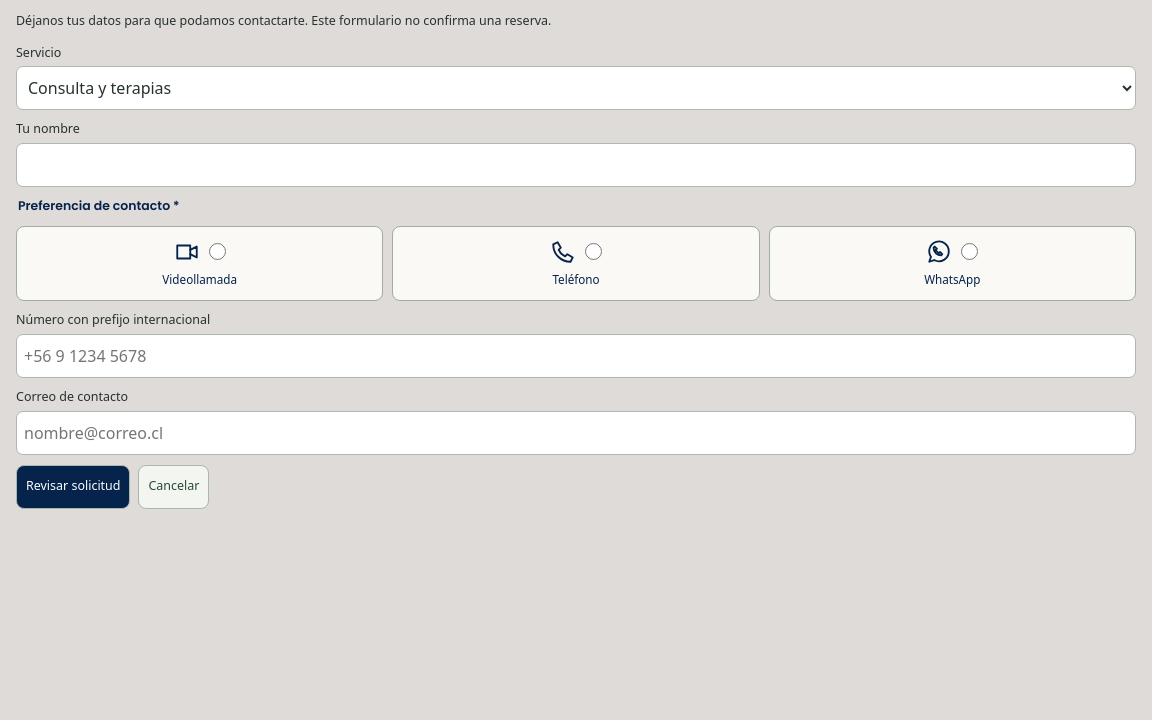
Test: ChatContactForm › blocks the review without an email when choosing Teléfono
The width and height of the screenshot is (1152, 720).
In the field labelled "Tu nombre": (576, 165) [16,143,1136,187], type "Ana"
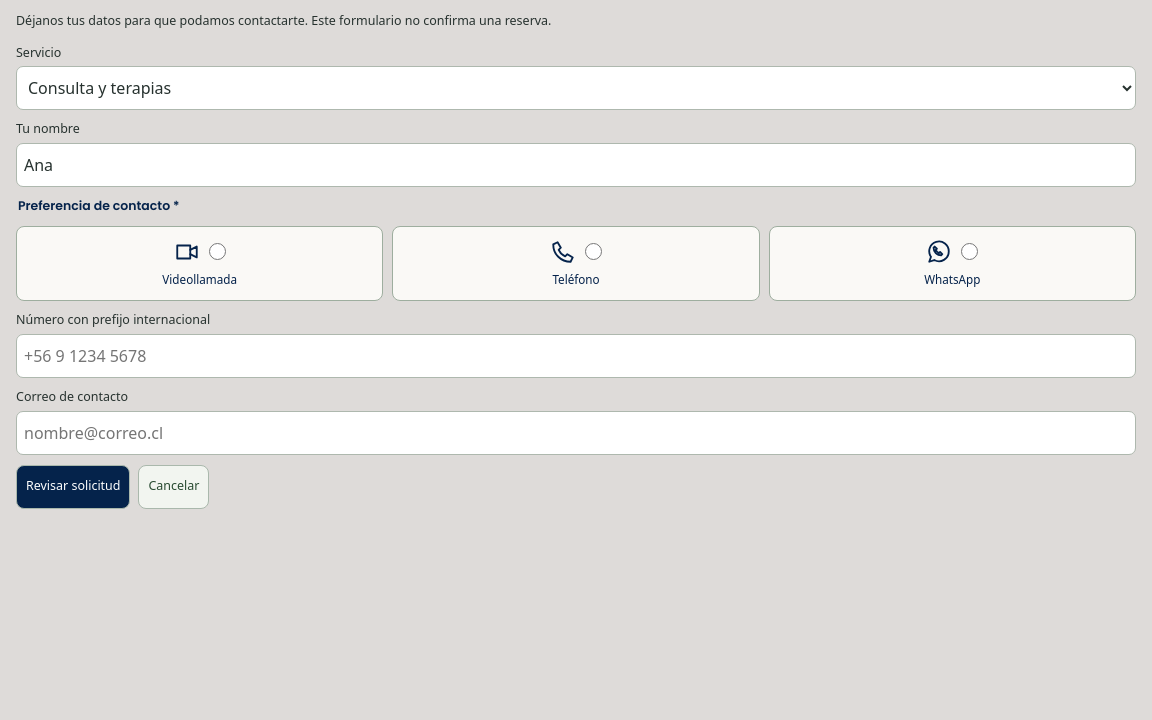
In the field labelled "Número con prefijo internacional": (576, 356) [16,334,1136,378], type "+56912345678"
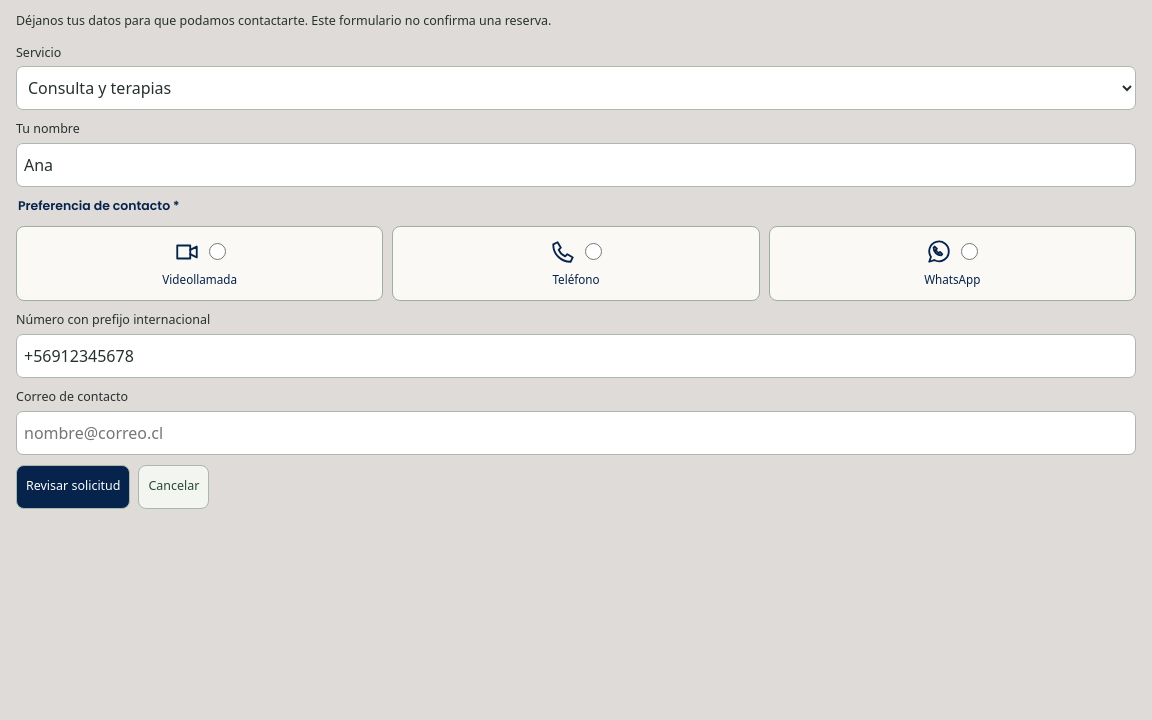
Click the radio button labelled "Teléfono": (594, 252) [585,243,602,260]
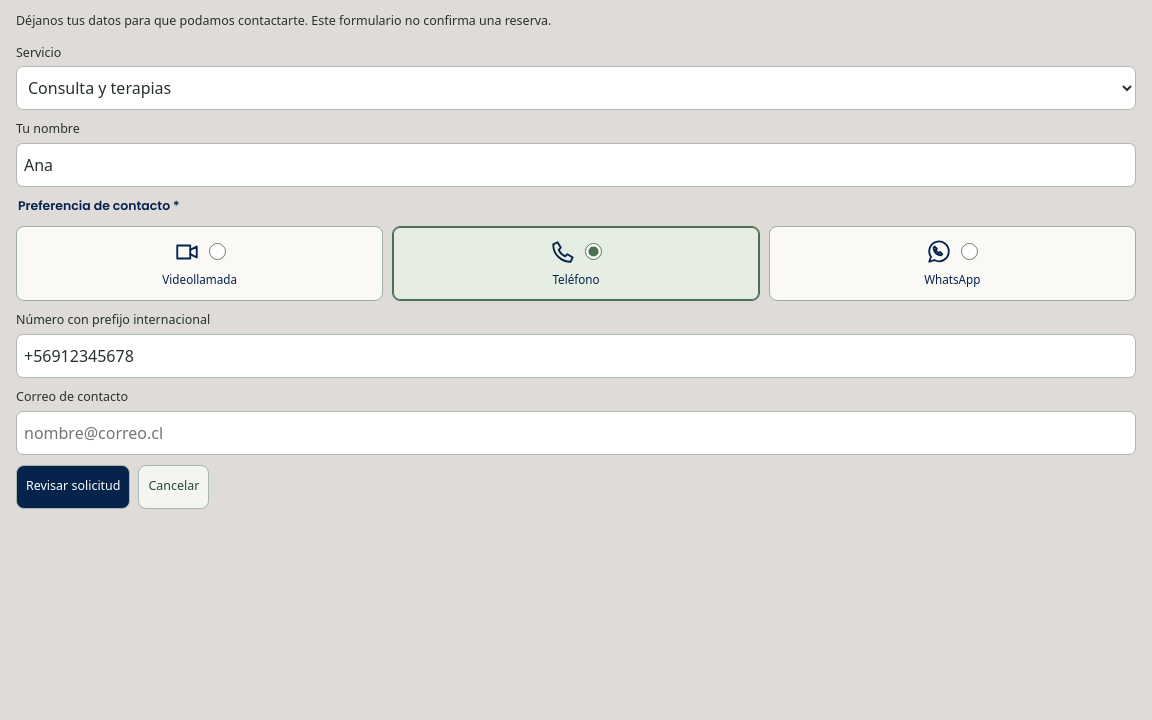
Click the button "Revisar solicitud": (73, 487) [16,465,130,509]
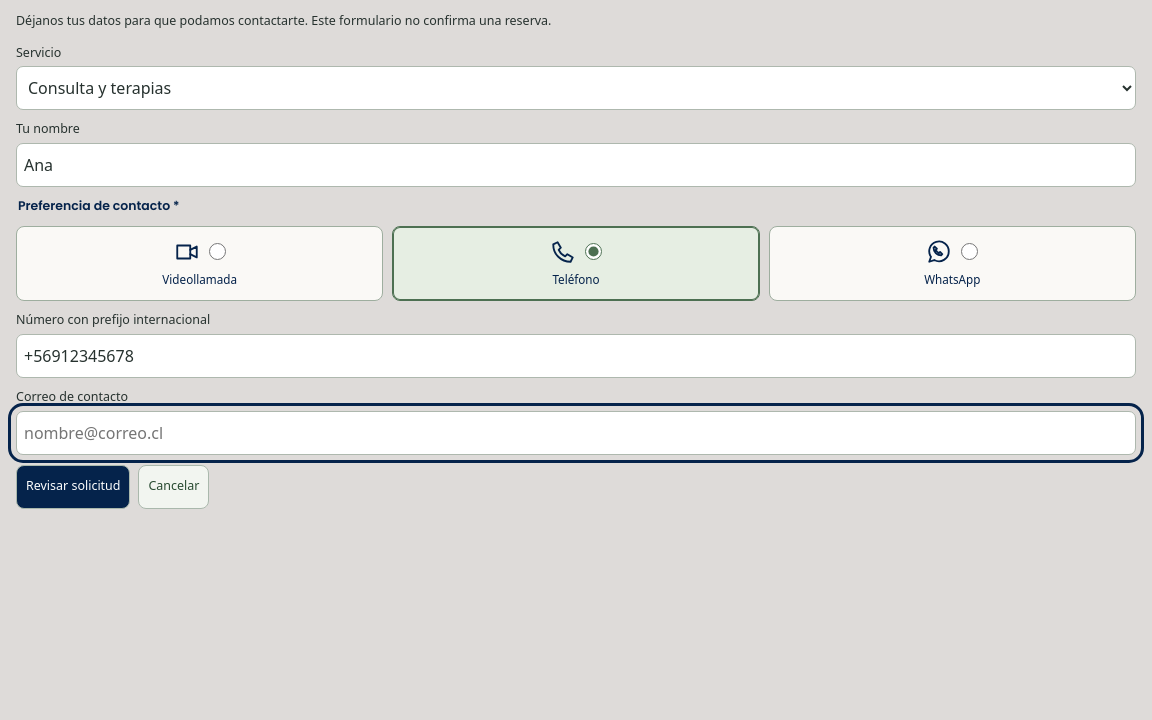
Expected: the text "revisa tu solicitud" is not shown
In the field labelled "Correo de contacto": (576, 433) [16,411,1136,455], type "ana@example.invalid"
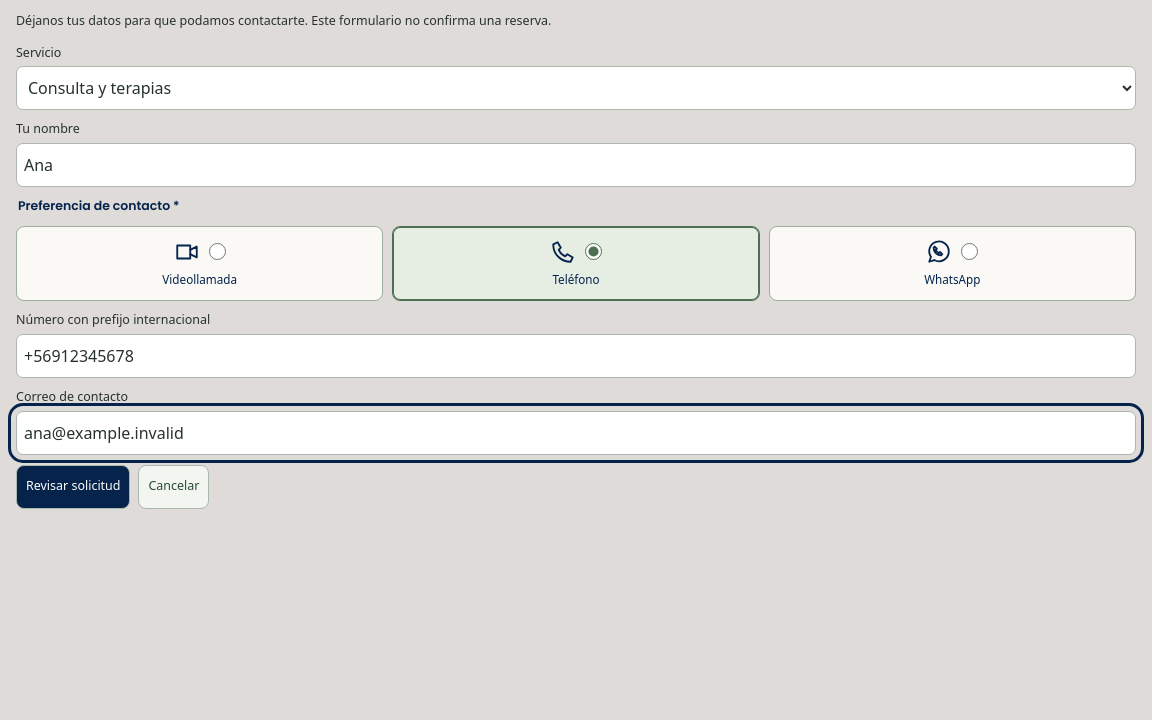
Click the button "Revisar solicitud": (73, 487) [16,465,130,509]
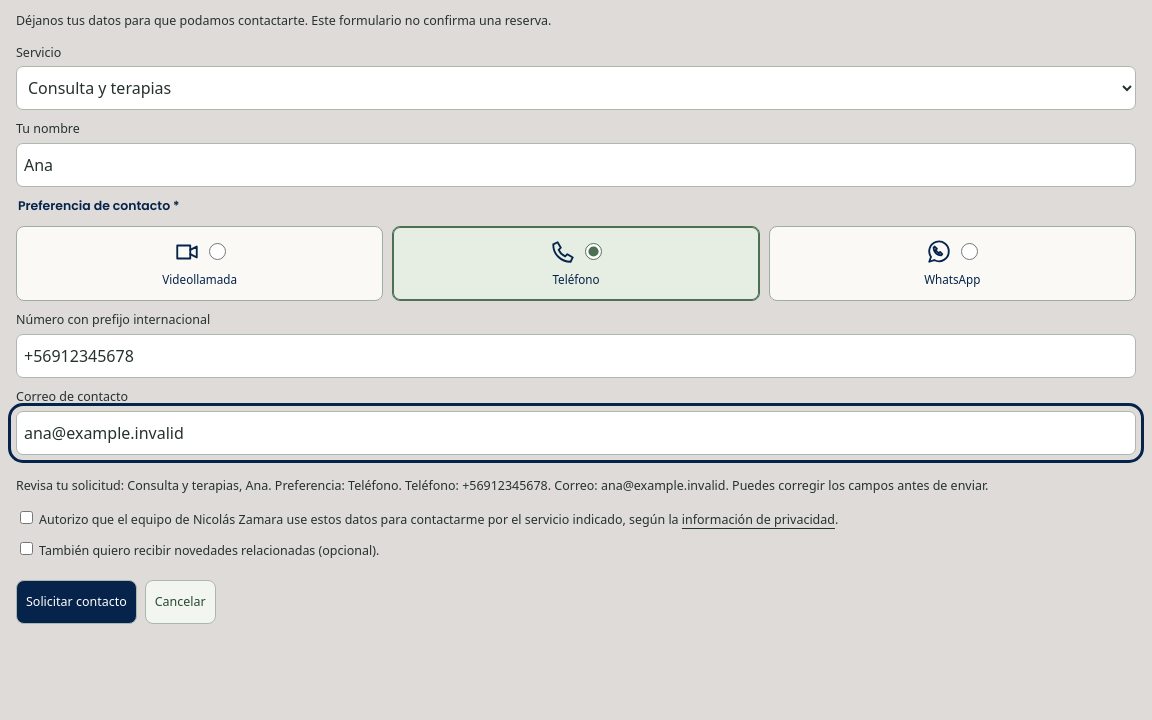
Expected: the text "Revisa tu solicitud" shows "Teléfono", [348,477,398,494]
